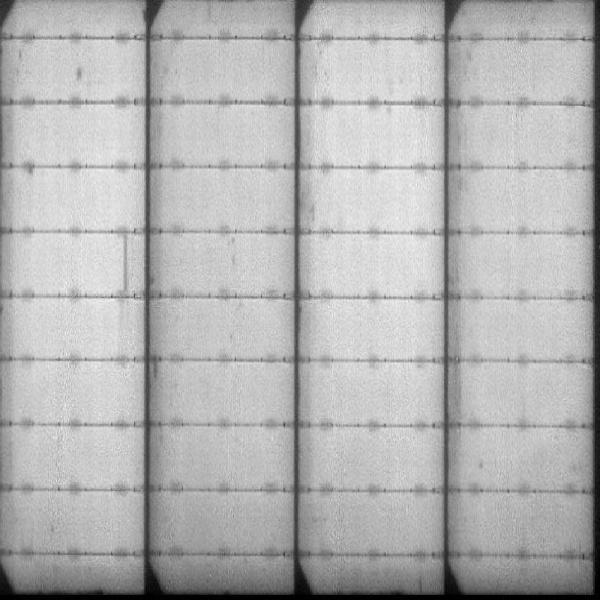scratch: (120, 233, 133, 291)
